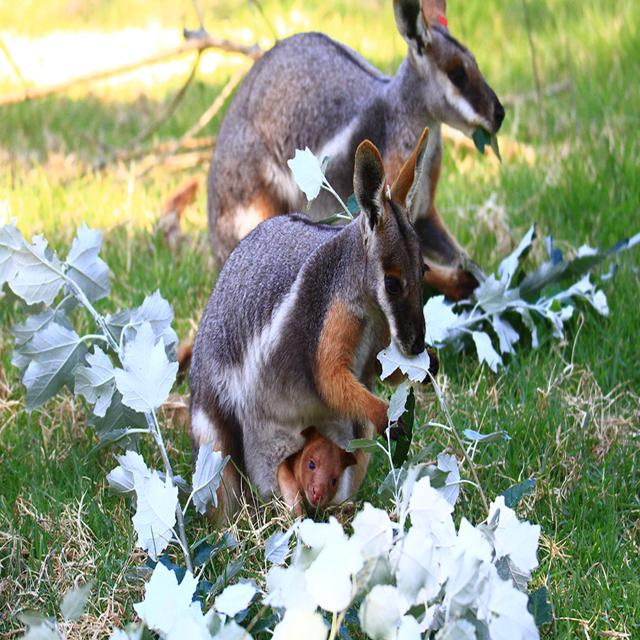kangaroo: (191, 127, 434, 503), (216, 1, 507, 207)
